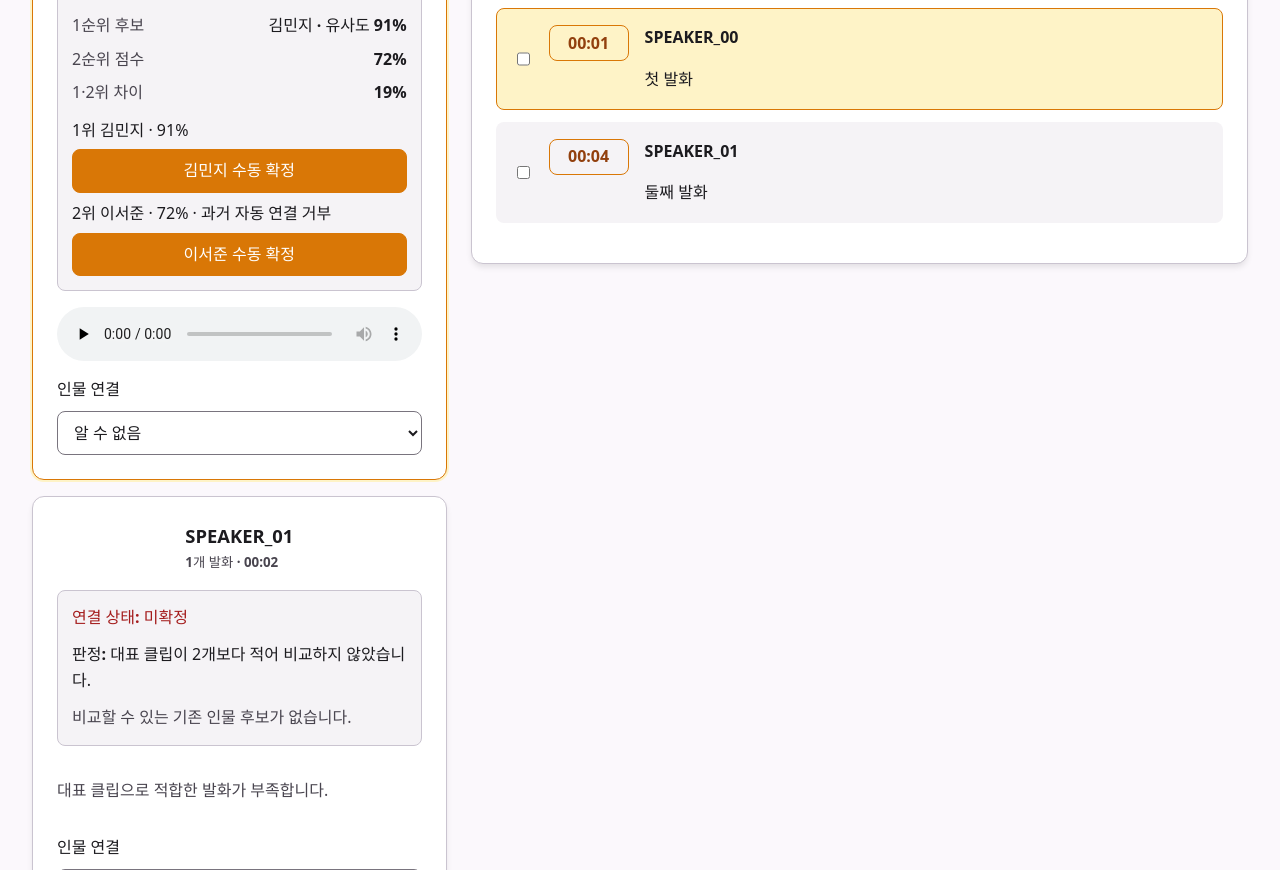
Test: 전체 화자 연결의 revision 충돌을 일반 오류와 구분한다
(page scrolled)
Select "김민지" in the dropdown named "SPEAKER_00 인물 연결". click: (239, 433)
box: [57,411,422,455]
(page scrolled)
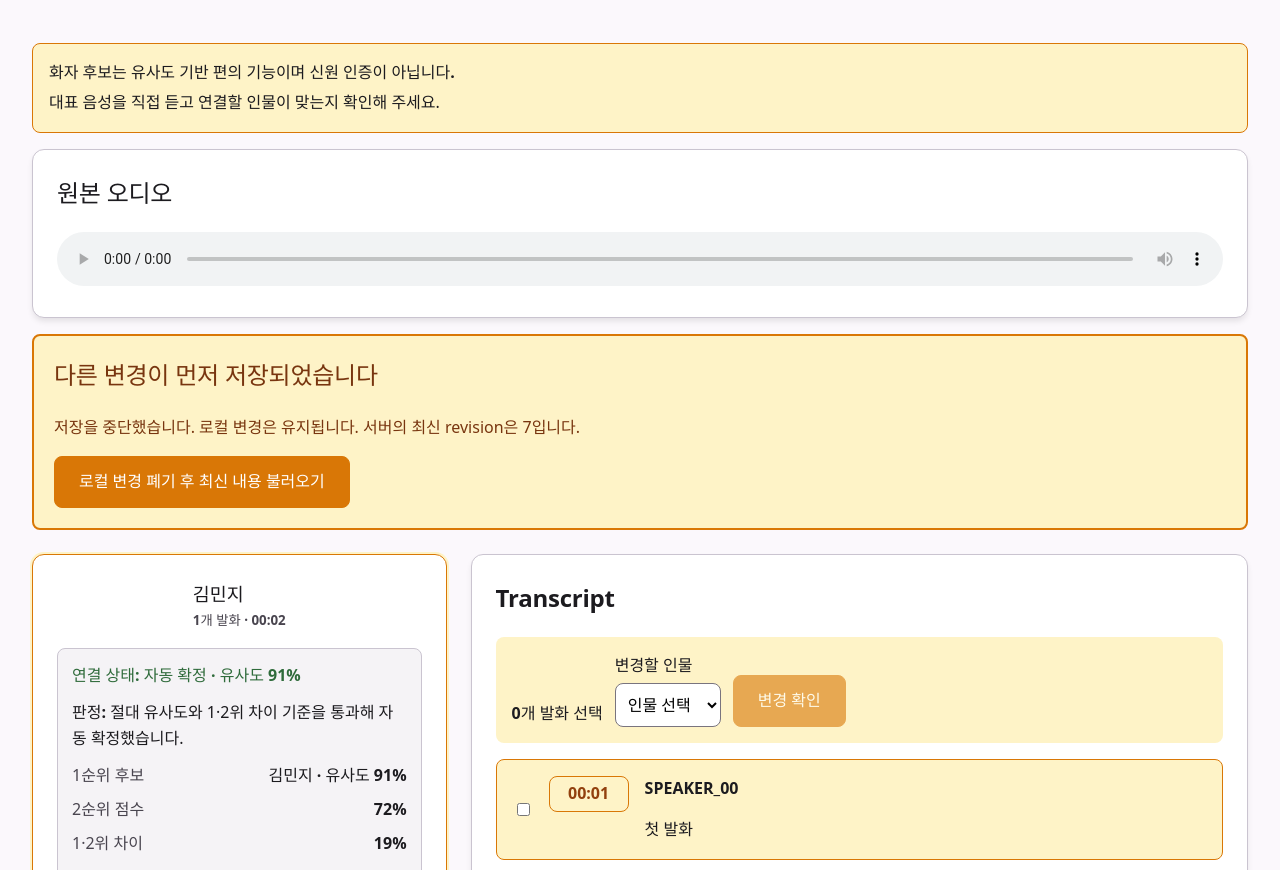
Result: the message shows "저장을 중단했습니다" at [54,416,359,438]
Result: the message shows "최신 revision은 7" at [359,416,580,438]
